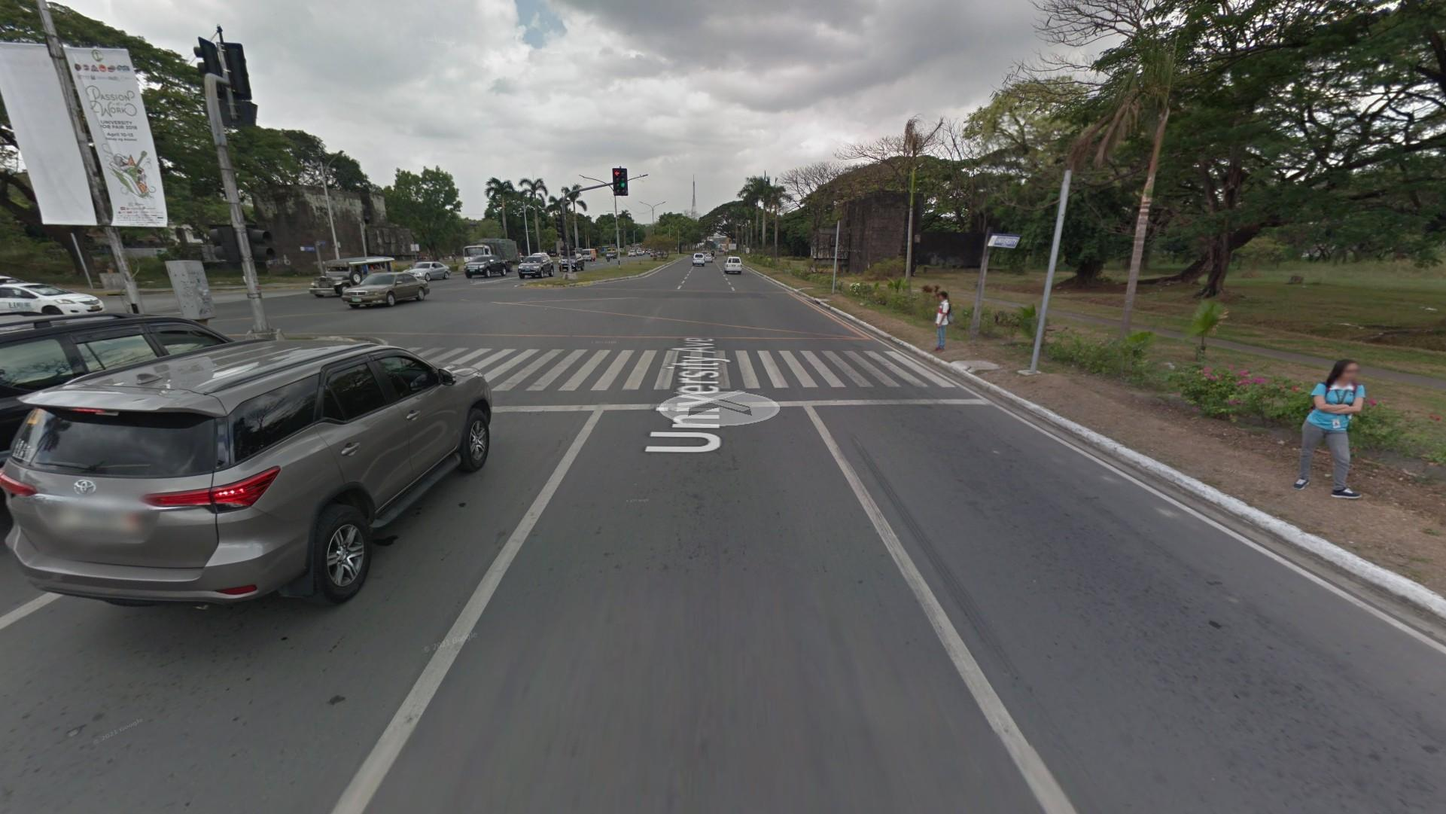pedestrian: (1292, 355, 1367, 499), (932, 289, 956, 353)
